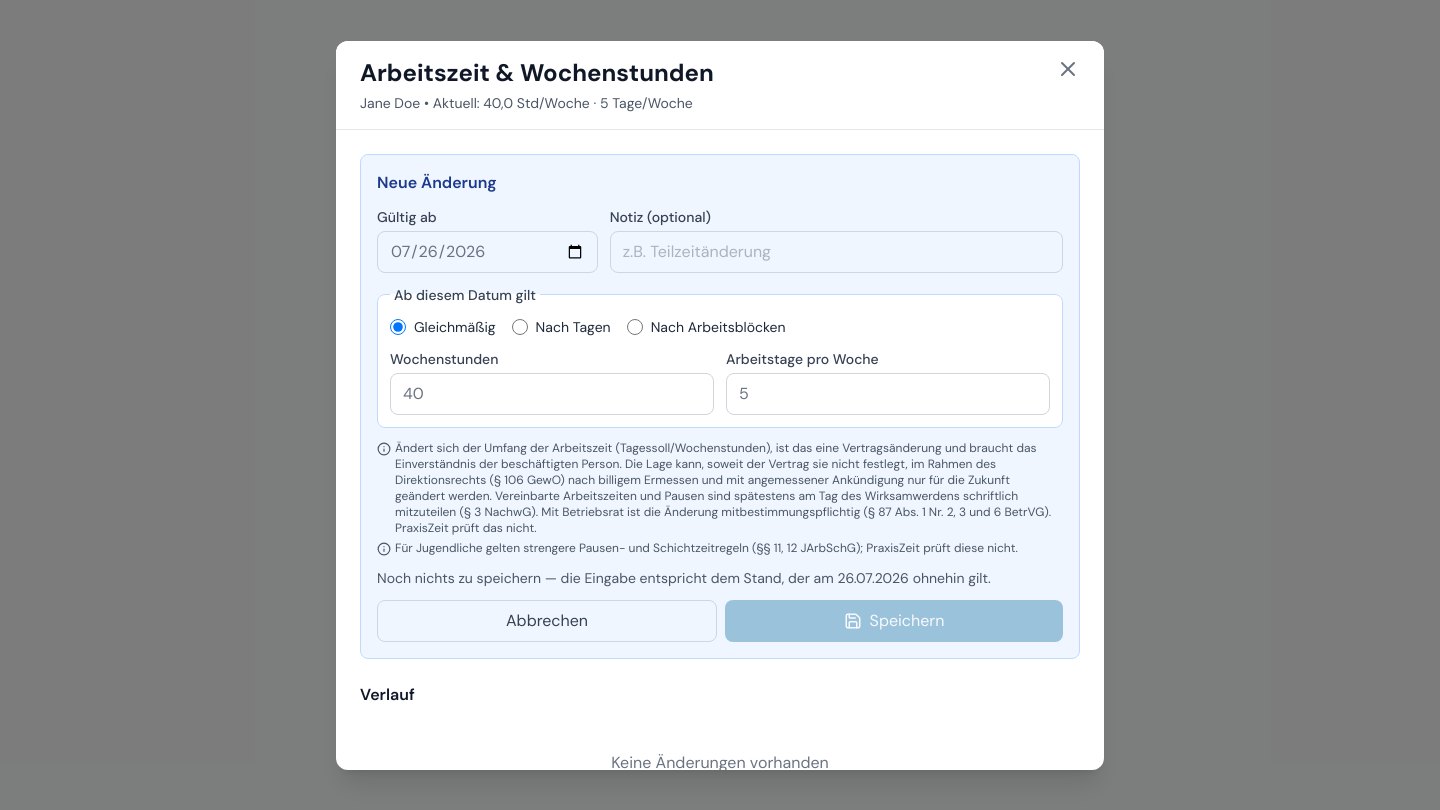
Test: Fund 4 (Release-Review 1.17.0): Vorschau-Fehler wird sichtbar gemacht › zeigt eine Fehlermeldung statt eines leeren Kastens und erlaubt erneutes Prüfen
Expected: the text "Keine Änderungen vorhanden" is shown, [611,752,829,770]
Type "2026-06-01" into the date field labelled "Gültig ab".
click(487, 252); type("2026-06-01")  # box [377,230,598,272]
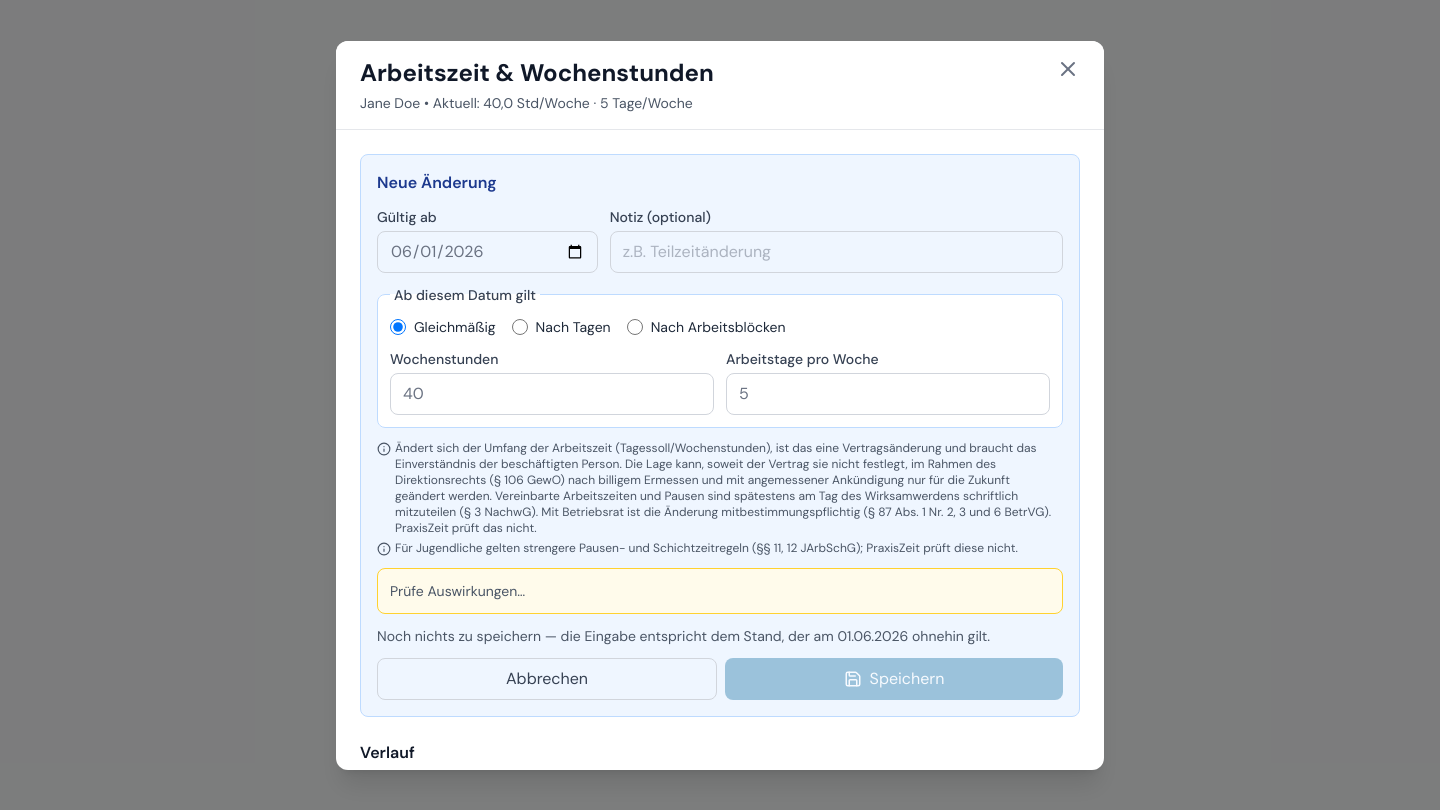
Replace the text in the number field labelled "Wochenstunden" with "20" at (552, 394), box [390,372,714,414]
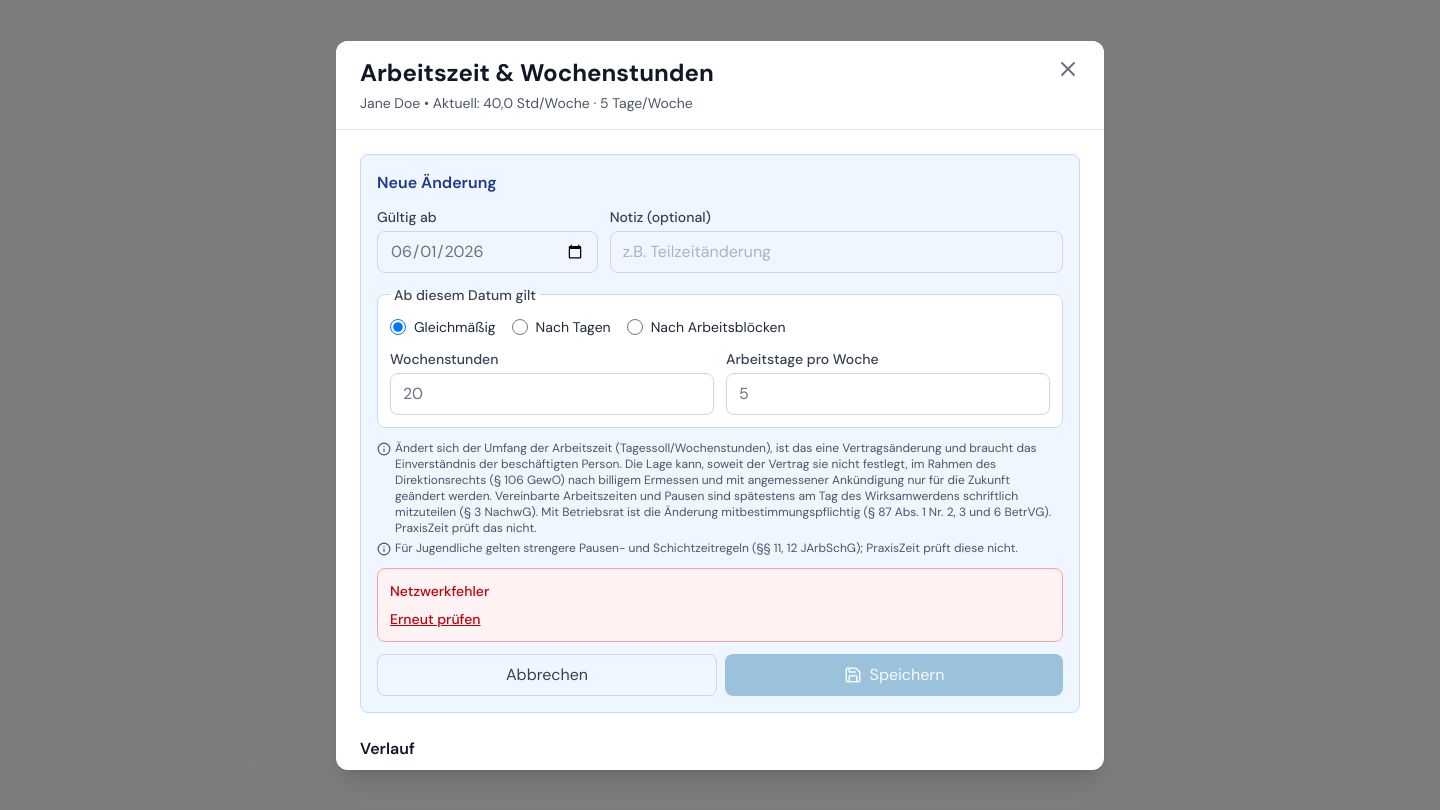
Expected: the button "Speichern" is disabled, [725,654,1063,696]
Now the text "Netzwerkfehler" is shown, box [390,582,489,600]
Click the button "Erneut prüfen".
click(435, 618)  # box [390,608,481,628]
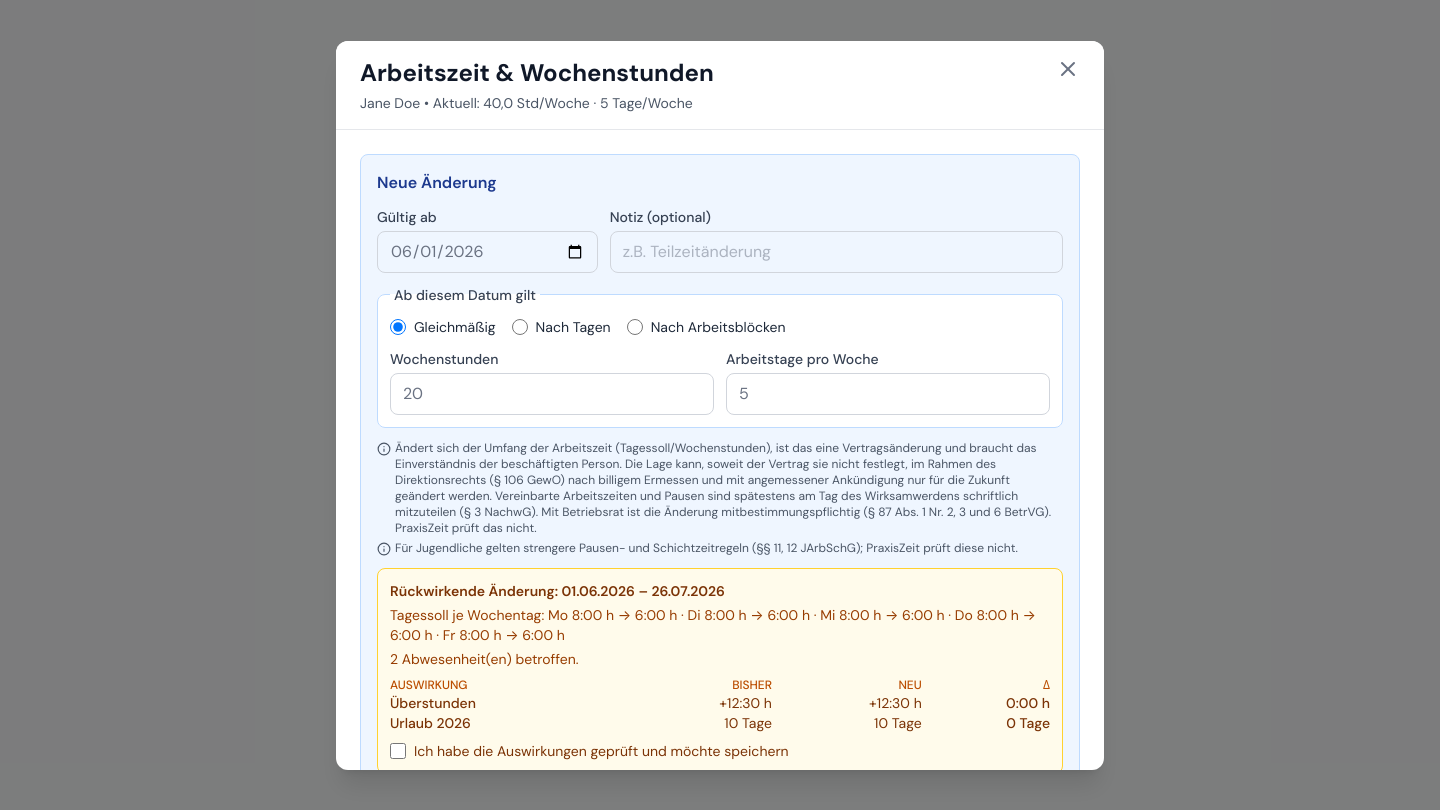
Now the text "2 Abwesenheit(en) betroffen." is shown, box [390,650,579,668]
Now the text "Netzwerkfehler" is gone
